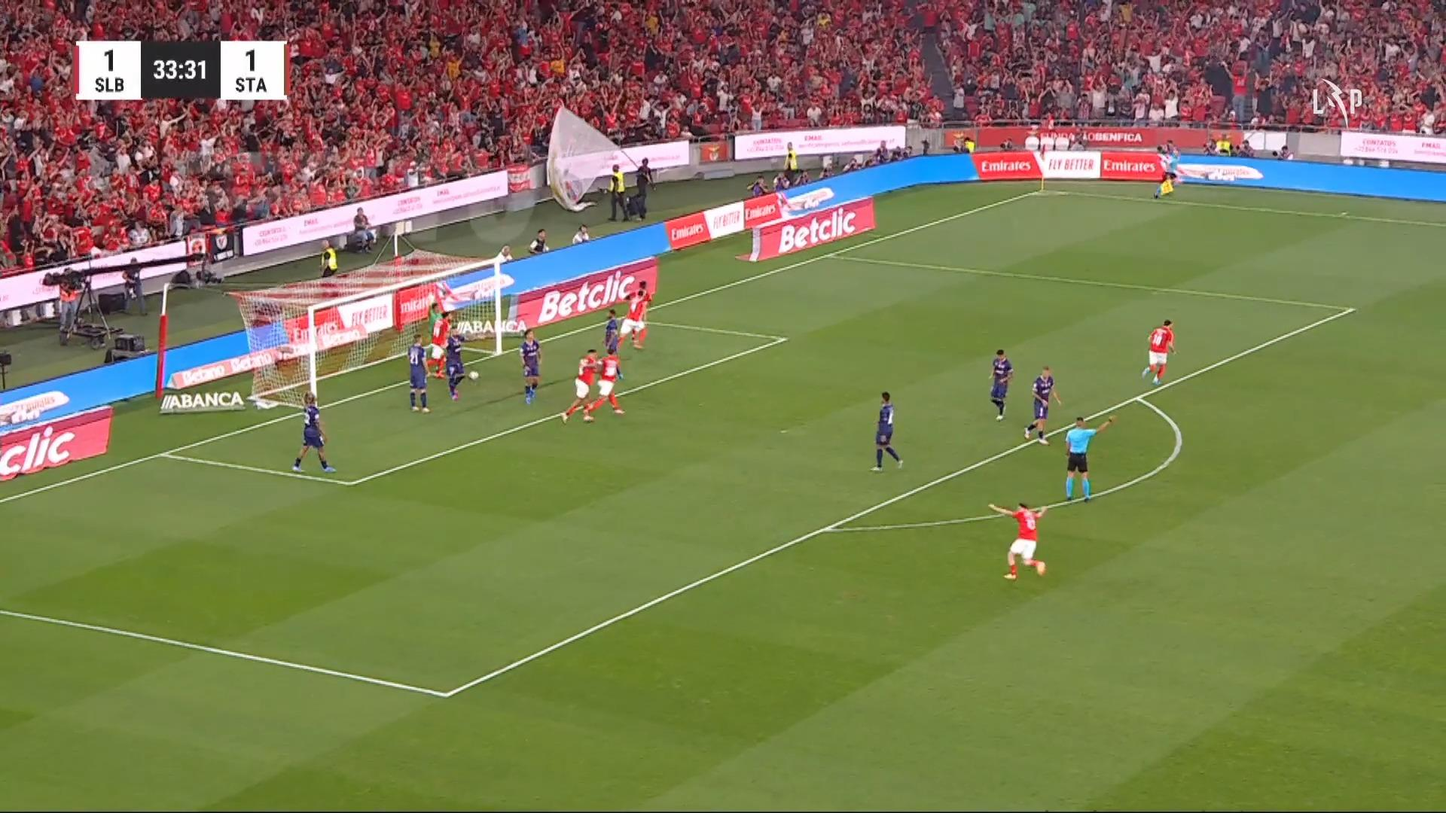ball: (468, 370, 478, 381)
goalkeeper: (426, 302, 444, 343)
player: (987, 500, 1048, 580), (290, 391, 336, 473), (559, 348, 600, 424), (582, 347, 625, 419), (1023, 365, 1061, 445), (870, 391, 904, 472), (444, 330, 478, 400), (1141, 318, 1176, 385), (617, 282, 652, 349), (407, 333, 431, 413), (518, 327, 542, 404), (988, 348, 1013, 421), (429, 310, 453, 378), (602, 307, 621, 355)
referee: (1063, 413, 1116, 501), (1152, 141, 1180, 199)
